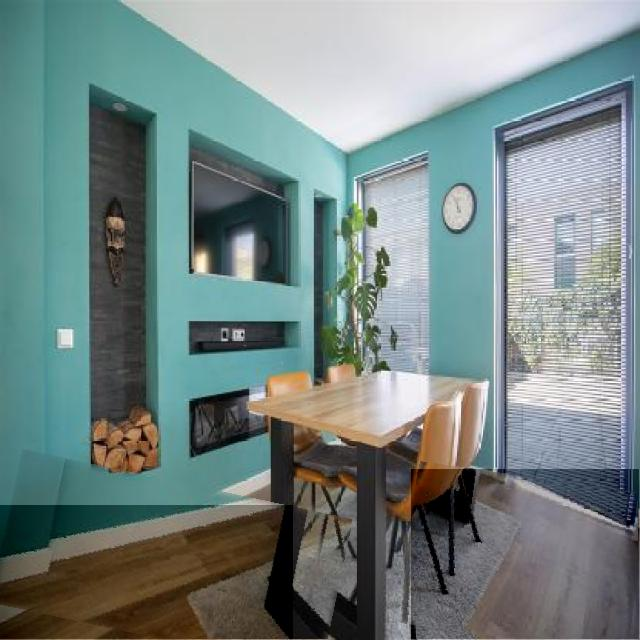floor: (0, 506, 293, 640), (412, 469, 639, 640), (292, 483, 359, 606)
